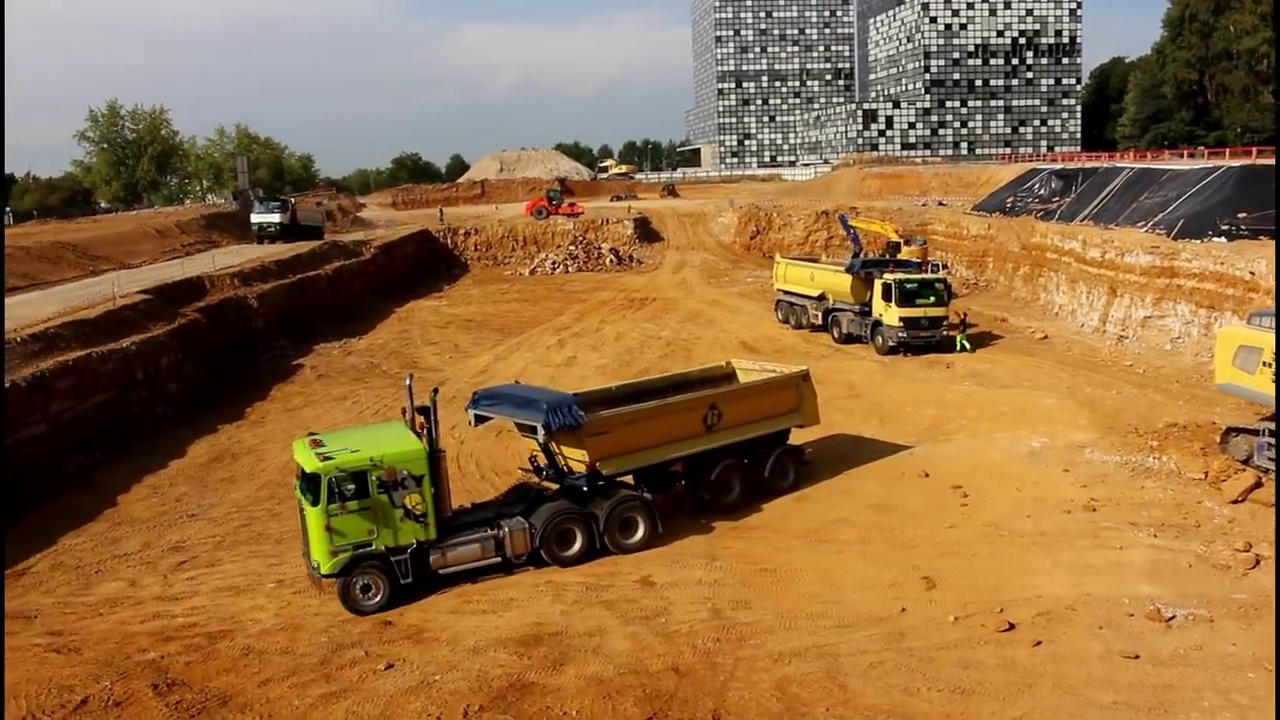compactor: (526, 189, 586, 221)
excavator: (1205, 300, 1280, 473), (827, 206, 924, 309), (589, 155, 637, 182)
truck: (289, 359, 826, 621), (771, 248, 955, 358), (248, 193, 329, 248)
worker: (951, 305, 977, 358), (433, 202, 451, 233)
